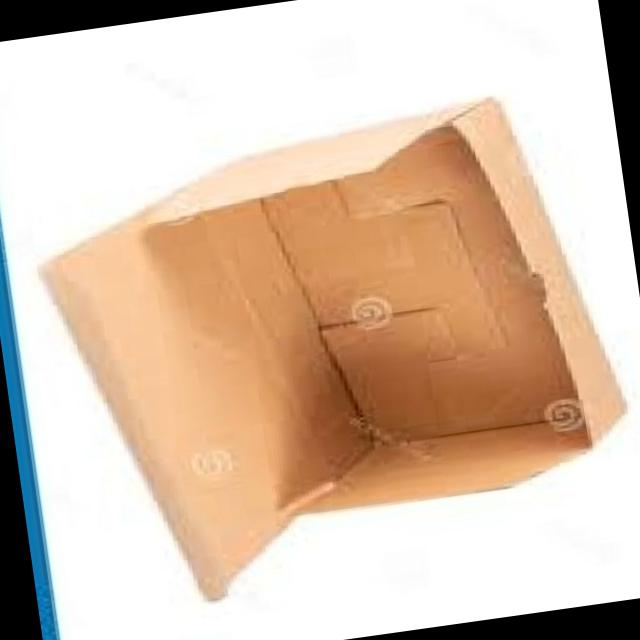cardboard paper: (46, 98, 625, 597)
